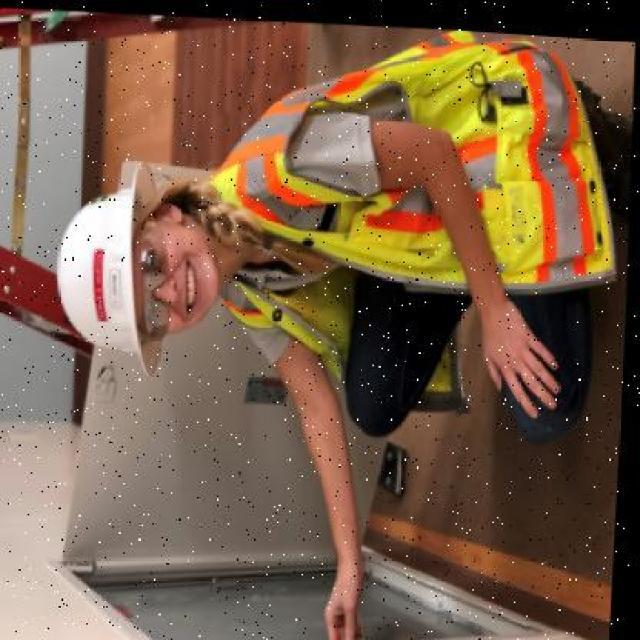helmet: (54, 129, 182, 391)
vest: (194, 20, 624, 392)
